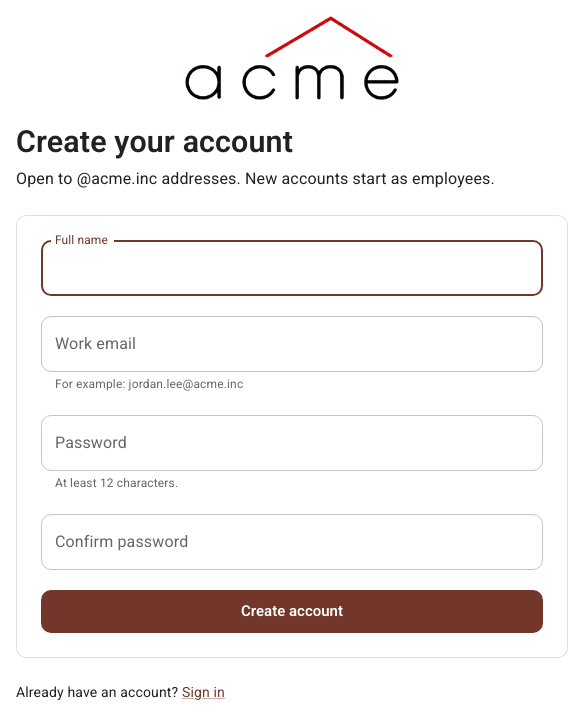
RegisterPage › refuses a password shorter than the API accepts
Type "Jordan Lee" into the field labelled "Full name" at (292, 268), box [41,240,543,296]
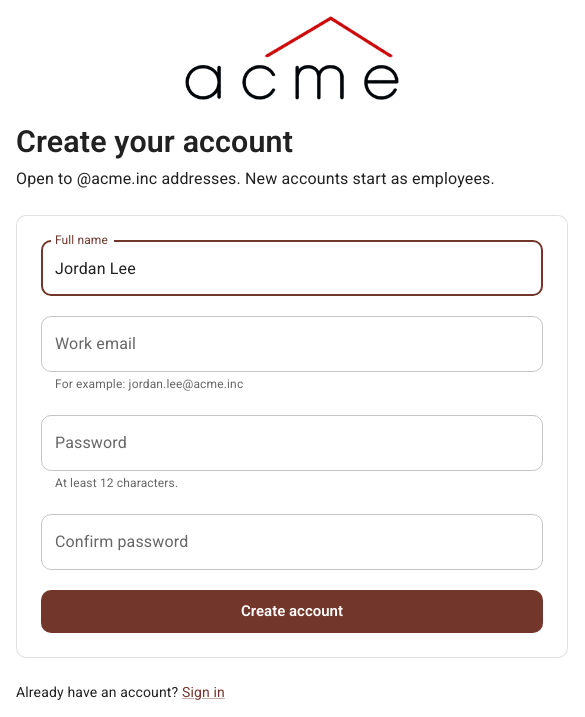
Type "jordan.lee@acme.inc" into the field labelled "Work email" at (292, 344), box [41,316,543,372]
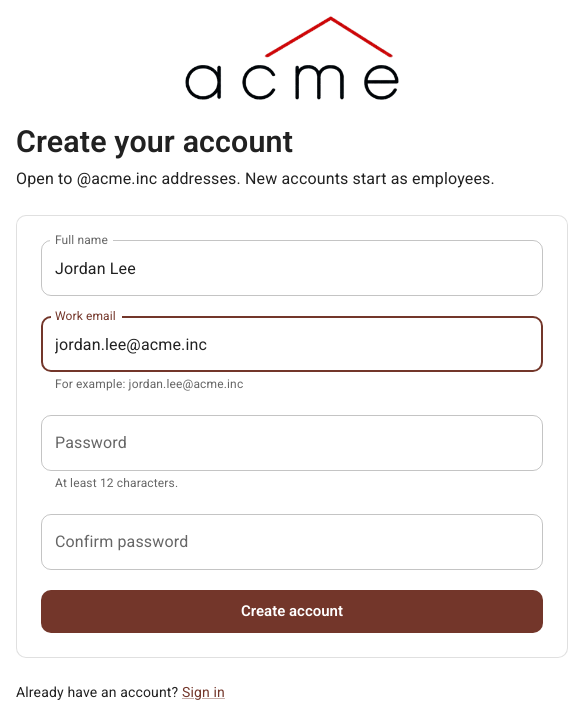
Type "short" into the password field labelled "Password" at (292, 443), box [41,415,543,471]
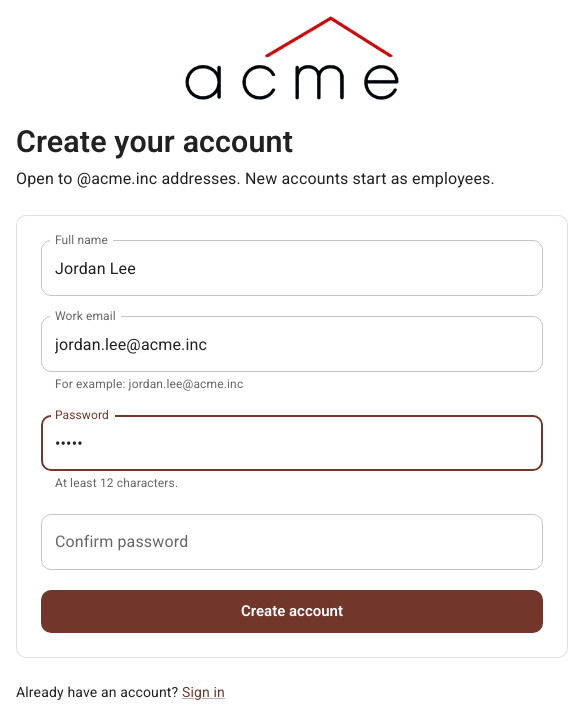
Type "short" into the password field labelled "Confirm password" at (292, 542), box [41,514,543,570]
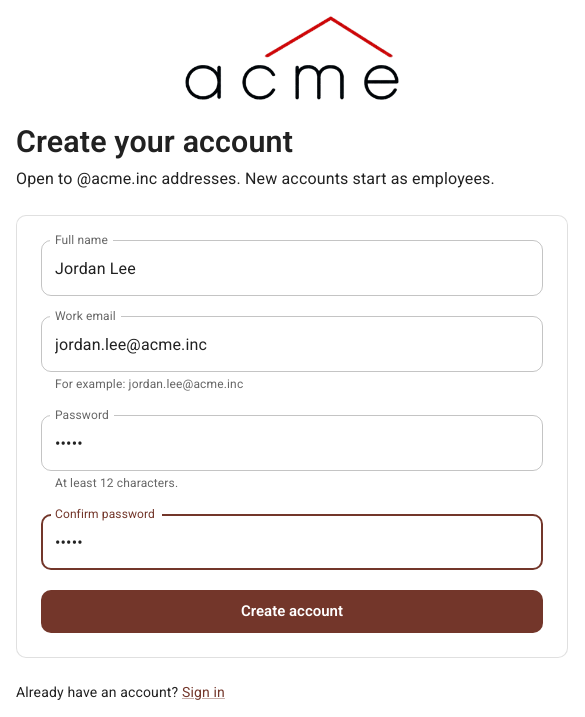
Click the button "Create account" at (292, 611), box [41,590,543,633]
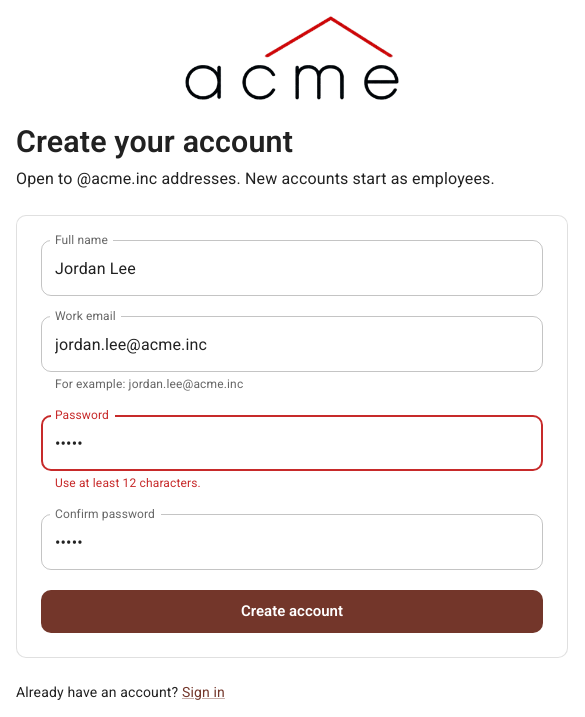
Now the text "Use at least 12 characters." is shown, box [55,476,201,490]
